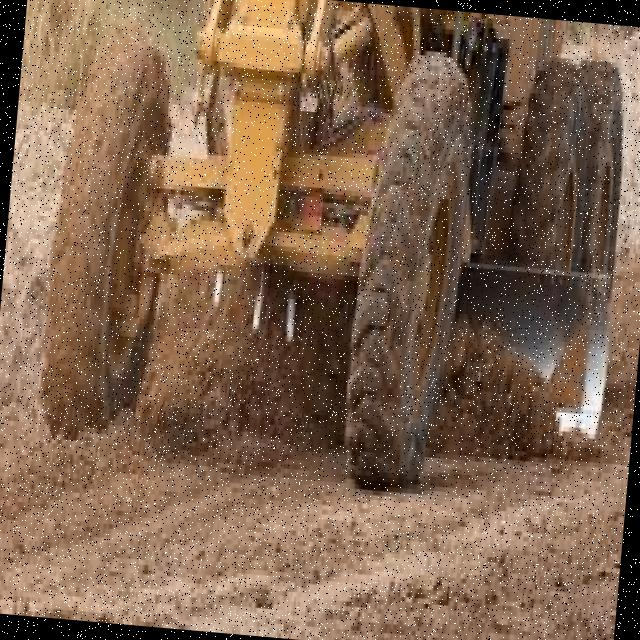Grader: (20, 0, 640, 582)
